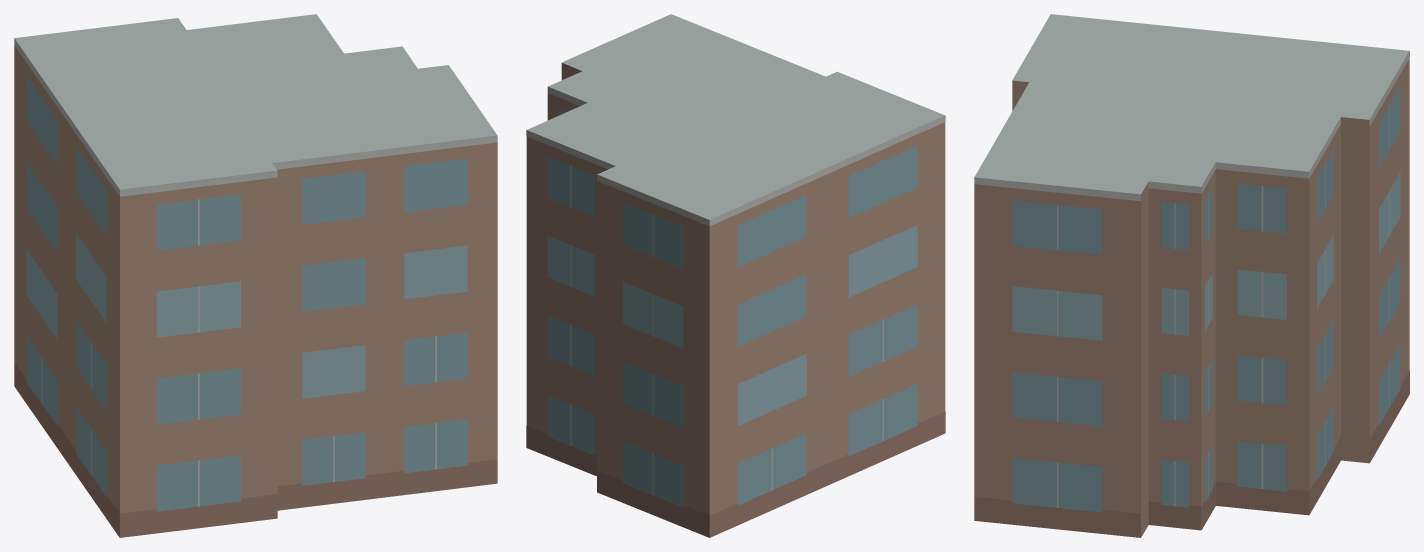
Rendered from survey-upis-32820859.glb.
The picture shows the model from 3 angles, left to right: view 1: azimuth 30°, elevation 25°; view 2: azimuth 150°, elevation 25°; view 3: azimuth 270°, elevation 25°; orthographic projection. The views are drawn at different scales.
Parts seen in each view (by area): view 1: survey-upis-32820859.tmp; view 2: survey-upis-32820859.tmp; view 3: survey-upis-32820859.tmp.
Boxes of the visible parts, left/top/right/bottom form: survey-upis-32820859.tmp: left=14, top=14, right=497, bottom=537; survey-upis-32820859.tmp: left=526, top=14, right=945, bottom=537; survey-upis-32820859.tmp: left=974, top=14, right=1409, bottom=537.
Bounding box in the file's own units: 13.75 × 12.2 × 14.03.
